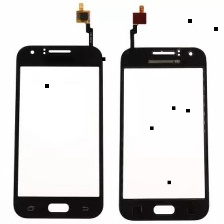phone: (110, 42, 217, 224), (9, 39, 107, 221)
